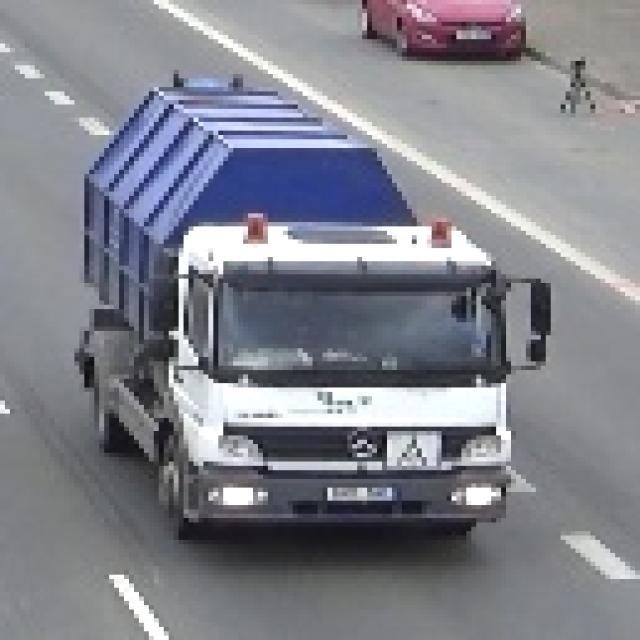truck: (61, 75, 547, 545)
